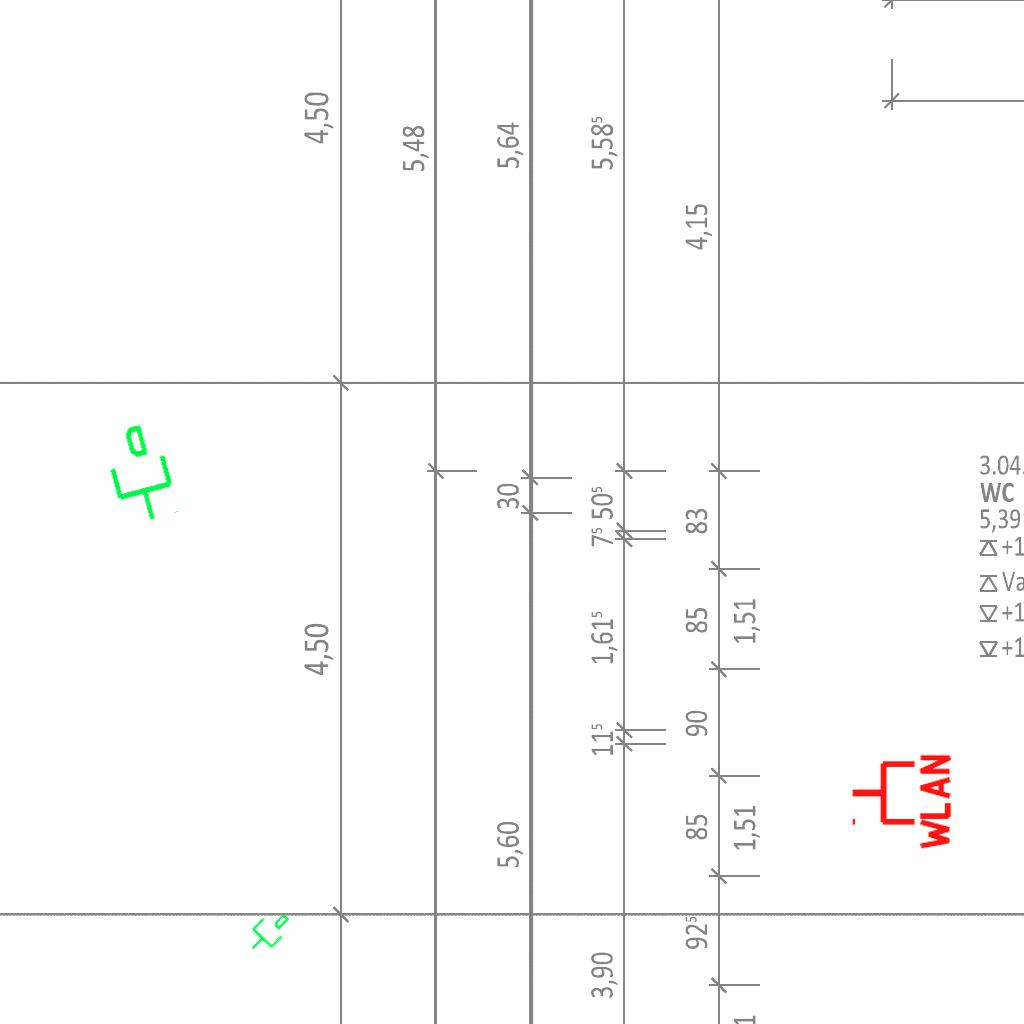Datenanschluss_einfach: (92, 416, 185, 532), (238, 901, 298, 961)
WLAN: (848, 750, 953, 854)
